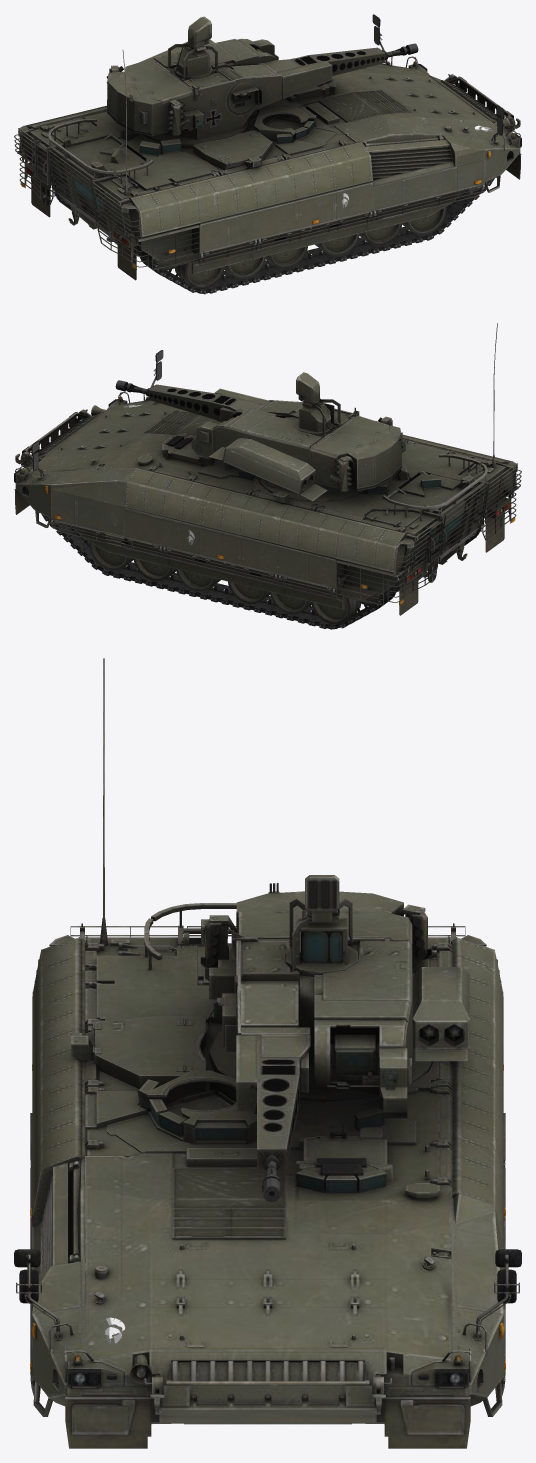
Rendered from puma.glb.
3 renders of one model, top to bottom at view 1: azimuth 30°, elevation 25°; view 2: azimuth 150°, elevation 25°; view 3: azimuth 270°, elevation 25°, orthographic. The views are drawn at different scales.
Visible parts, largest first — view 1: wheel_l_7_wheel_l_7#base.mtl.001_0, at_a1_at_a1#base.mtl.001_0, trackl_trackl#tracks.mtl.001_0; view 2: wheel_l_7_wheel_l_7#base.mtl.001_0, at_a1_at_a1#base.mtl.001_0, trackl_trackl#tracks.mtl.001_0; view 3: wheel_l_7_wheel_l_7#base.mtl.001_0, at_a1_at_a1#base.mtl.001_0.
Boxes of the visible parts, x1,y1,x2,y2 form: wheel_l_7_wheel_l_7#base.mtl.001_0: (14, 14, 521, 288); at_a1_at_a1#base.mtl.001_0: (122, 50, 489, 180); trackl_trackl#tracks.mtl.001_0: (51, 178, 494, 294); wheel_l_7_wheel_l_7#base.mtl.001_0: (14, 350, 521, 623); at_a1_at_a1#base.mtl.001_0: (46, 323, 497, 456); trackl_trackl#tracks.mtl.001_0: (41, 514, 484, 629); wheel_l_7_wheel_l_7#base.mtl.001_0: (14, 875, 521, 1448); at_a1_at_a1#base.mtl.001_0: (103, 658, 386, 1349).
Size of what is drawn, in the model's own units: 146 by 84.73 by 77.95.
Materials: 4 (4 with a texture image).
